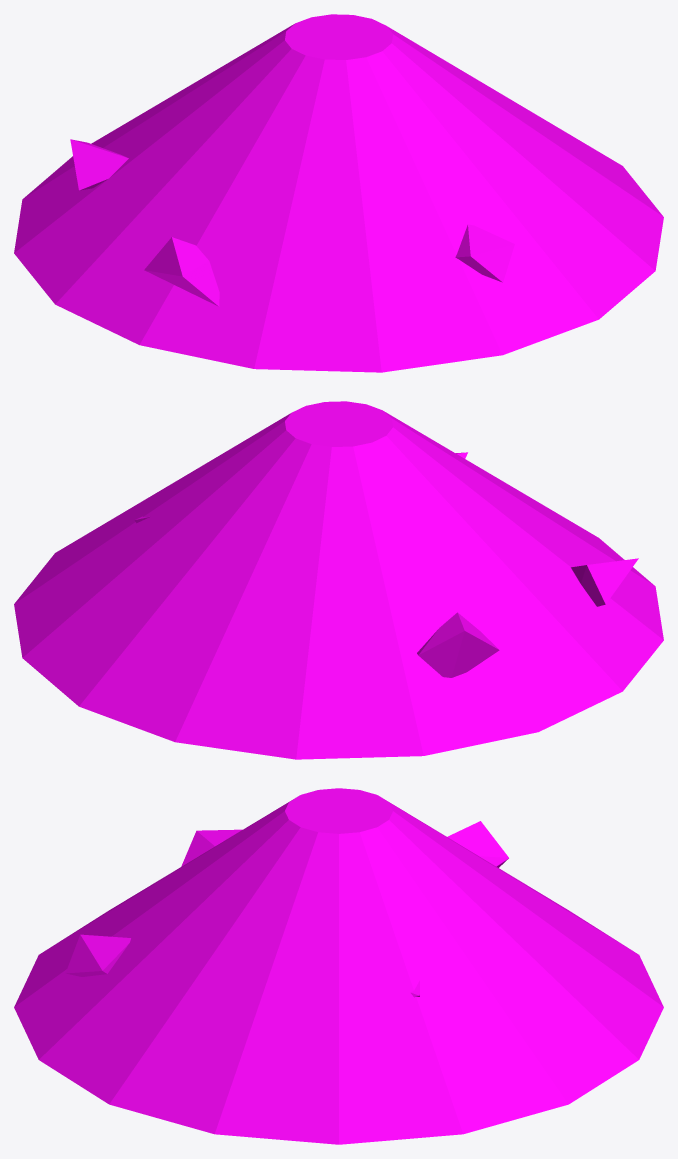
Rendered from objet_sable.glb.
The picture shows the model from 3 angles, top to bottom: view 1: azimuth 30°, elevation 25°; view 2: azimuth 150°, elevation 25°; view 3: azimuth 270°, elevation 25°; orthographic projection.
Parts seen in each view (by area): view 1: tas.002, sable_teinte.002; view 2: tas.002, sable_teinte.002; view 3: tas.002, sable_teinte.002.
Part boxes in pixels (box(x1,y1,x2,y2)): tas.002: box(14, 14, 663, 372); sable_teinte.002: box(70, 139, 514, 306); tas.002: box(14, 401, 663, 759); sable_teinte.002: box(134, 452, 638, 677); tas.002: box(14, 788, 663, 1144); sable_teinte.002: box(65, 821, 508, 997).
Bounding box in the file's own units: 0.3 × 0.1 × 0.3.
